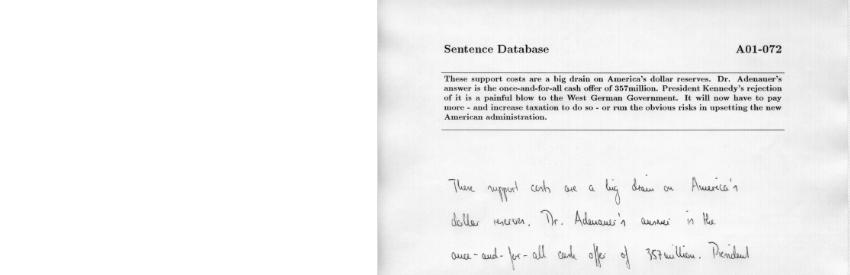text: (449, 239, 752, 272), (447, 173, 740, 205), (449, 209, 717, 231), (441, 71, 785, 85), (443, 91, 784, 103), (442, 101, 783, 113), (445, 83, 783, 94), (443, 43, 551, 56), (442, 111, 549, 122), (735, 42, 783, 56)
